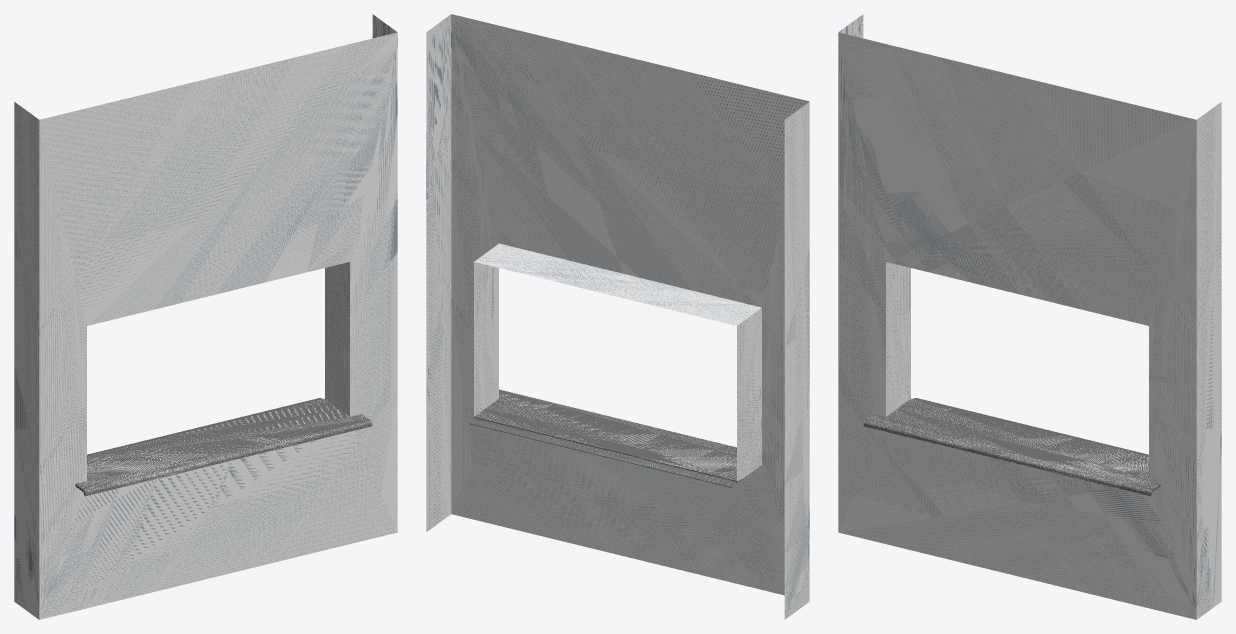
The model's file is WindowBlock_os_[300x400]_220x124x[100].dae.
3 renders of one model, left to right at view 1: azimuth 30°, elevation 25°; view 2: azimuth 150°, elevation 25°; view 3: azimuth 330°, elevation 25°, orthographic.
Parts seen in each view (by area): view 1: group_2 (×2), group_1 (×2); view 2: group_2 (×2), group_1 (×2); view 3: group_2 (×2), group_1 (×2).
Part boxes in pixels (x1,y1,x2,y2): group_2 (×2): (14,14,397,619); group_1 (×2): (75,398,372,496); group_2 (×2): (426,14,809,619); group_1 (×2): (469,389,745,487); group_2 (×2): (838,14,1221,619); group_1 (×2): (863,398,1160,495).
Size of the model in its own units: 118 by 23.03 by 157.
